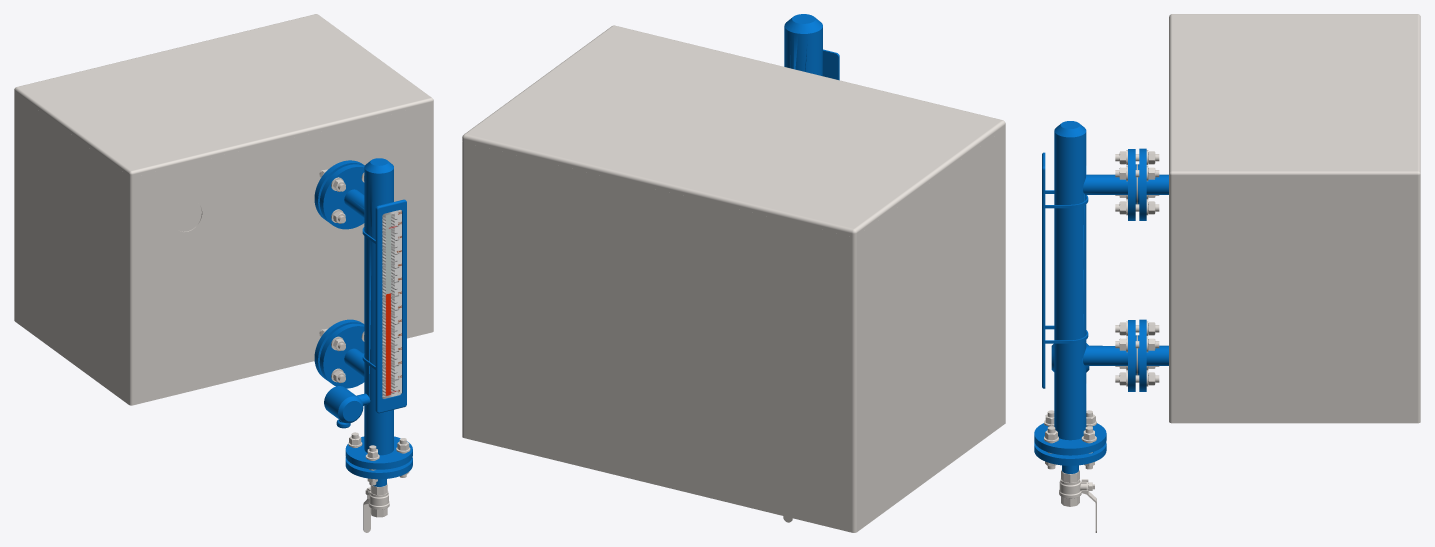
Rendered from 高位水箱.glb.
3 views of the same model, side by side, from view 1: azimuth 30°, elevation 25°; view 2: azimuth 150°, elevation 25°; view 3: azimuth 270°, elevation 25° (orthographic). The views are drawn at different scales.
Parts seen in each view (by area): view 1: 高位水箱, ________________.STEP-1, 卡尺, ______-DN20________-1.STEP-1, ____________________.STEP-1, ____________DN25.STEP-2, ____________DN25.STEP-1; view 2: 高位水箱, ________________.STEP-1, 卡尺; view 3: 高位水箱, ________________.STEP-1, 卡尺, ____________DN25.STEP-1, ____________DN25.STEP-2, ______-DN20________-1.STEP-1, ____________________.STEP-1.
Part boxes in pixels (<box>): 高位水箱: <box>14,93,433,405</box>; ________________.STEP-1: <box>14,14,433,177</box>; 卡尺: <box>319,158,412,469</box>; ______-DN20________-1.STEP-1: <box>363,483,389,532</box>; ____________________.STEP-1: <box>345,457,412,486</box>; ____________DN25.STEP-2: <box>314,319,364,379</box>; ____________DN25.STEP-1: <box>314,160,364,221</box>; 高位水箱: <box>462,128,1005,532</box>; ________________.STEP-1: <box>462,25,1005,237</box>; 卡尺: <box>784,14,839,80</box>; 高位水箱: <box>1169,177,1420,423</box>; ________________.STEP-1: <box>1169,14,1420,178</box>; 卡尺: <box>1034,121,1136,455</box>; ____________DN25.STEP-1: <box>1138,148,1168,220</box>; ____________DN25.STEP-2: <box>1138,319,1168,391</box>; ______-DN20________-1.STEP-1: <box>1059,469,1096,532</box>; ____________________.STEP-1: <box>1034,442,1106,473</box>.
Bounding box in the file's own units: 0.6 × 0.725 × 0.6145.
6 materials, 1 textured.
